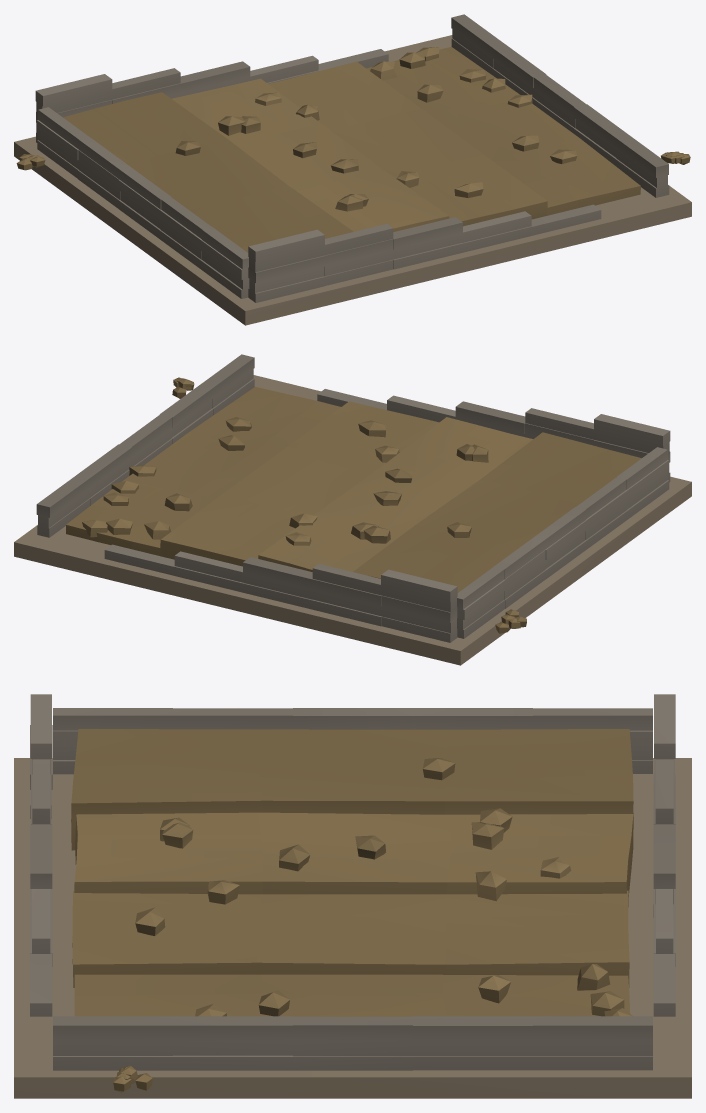
File: caral_pyramid_small_phase1_lod0.glb
3 renders of one model, top to bottom at view 1: azimuth 30°, elevation 25°; view 2: azimuth 150°, elevation 25°; view 3: azimuth 270°, elevation 25°, orthographic. The views are drawn at different scales.
Visible parts, largest first — view 1: GEO-Arch_pyramid_small_phase1_LOD0; view 2: GEO-Arch_pyramid_small_phase1_LOD0; view 3: GEO-Arch_pyramid_small_phase1_LOD0.
Boxes of the visible parts, x1,y1,x2,y2 form: GEO-Arch_pyramid_small_phase1_LOD0: [14, 14, 691, 325]; GEO-Arch_pyramid_small_phase1_LOD0: [14, 354, 691, 665]; GEO-Arch_pyramid_small_phase1_LOD0: [14, 694, 691, 1098].
Size of the model in its own units: 22.28 by 2.73 by 17.4.
